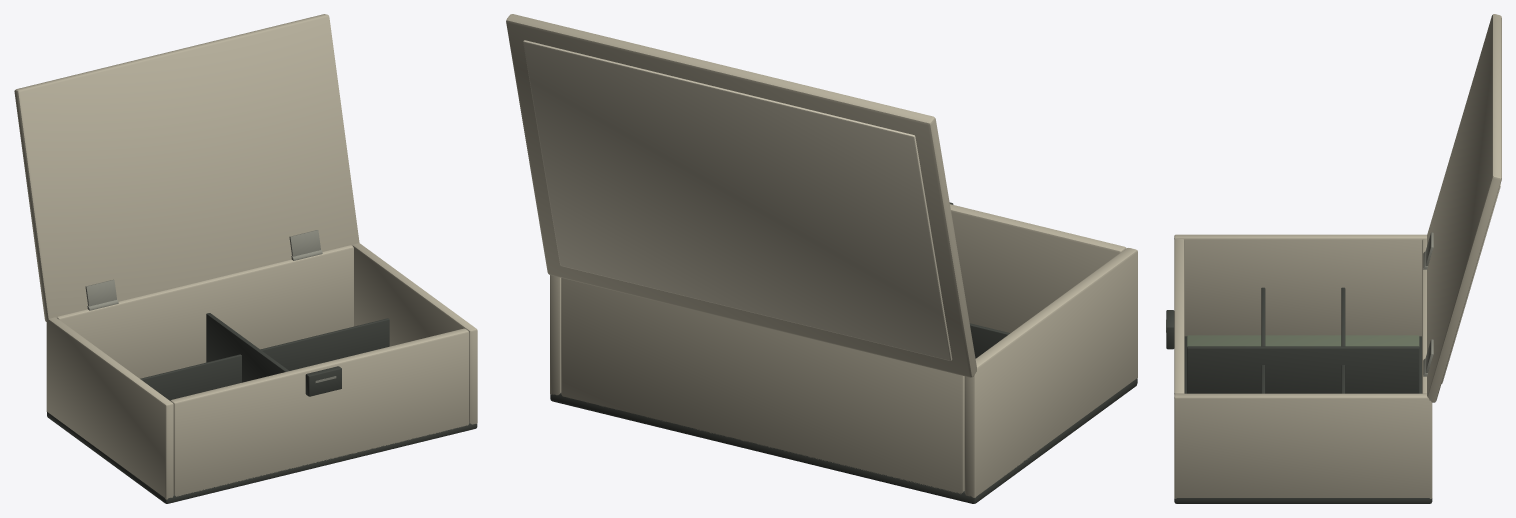
File: A01_Storage_ROOT.fbx
3 renders of one model, left to right at view 1: azimuth 30°, elevation 25°; view 2: azimuth 150°, elevation 25°; view 3: azimuth 270°, elevation 25°, orthographic. The views are drawn at different scales.
Visible parts, largest first — view 1: A01_Lid, A01_End.001, A01_End, A01_Side.001, A01_Side, A01_RowDivider, A01_Bottom, A01_RowDivider.002, A01_CenterDivider, A01_Latch, A01_HingeLeaf, A01_HingeLeaf.001; view 2: A01_LidInset, A01_End, A01_Lid, A01_Side.001, A01_End.001, A01_Bottom, A01_Side, A01_RowDivider.001; view 3: A01_Side, A01_Side.001, A01_Lid, A01_CenterDivider, A01_Liner, A01_Bottom, A01_End.001, A01_End.
Part boxes in pixels (x1=…): A01_Lid: x1=14, y1=14, x2=359, y2=321; A01_End.001: x1=170, y1=328, x2=469, y2=496; A01_End: x1=57, y1=245, x2=353, y2=378; A01_Side.001: x1=46, y1=317, x2=173, y2=499; A01_Side: x1=352, y1=243, x2=477, y2=424; A01_RowDivider: x1=260, y1=318, x2=389, y2=370; A01_Bottom: x1=47, y1=412, x2=477, y2=503; A01_RowDivider.002: x1=140, y1=354, x2=241, y2=400; A01_CenterDivider: x1=206, y1=313, x2=288, y2=382; A01_Latch: x1=305, y1=366, x2=341, y2=396; A01_HingeLeaf: x1=289, y1=230, x2=320, y2=256; A01_HingeLeaf.001: x1=85, y1=279, x2=116, y2=306; A01_LidInset: x1=523, y1=40, x2=952, y2=360; A01_End: x1=561, y1=278, x2=964, y2=494; A01_Lid: x1=506, y1=14, x2=976, y2=377; A01_Side.001: x1=964, y1=248, x2=1137, y2=497; A01_End.001: x1=950, y1=204, x2=1126, y2=332; A01_Bottom: x1=550, y1=378, x2=1137, y2=503; A01_Side: x1=550, y1=275, x2=561, y2=395; A01_RowDivider.001: x1=969, y1=323, x2=1010, y2=358; A01_Side: x1=1174, y1=393, x2=1432, y2=498; A01_Side.001: x1=1174, y1=234, x2=1426, y2=336; A01_Lid: x1=1427, y1=14, x2=1501, y2=402; A01_CenterDivider: x1=1187, y1=346, x2=1419, y2=393; A01_Liner: x1=1187, y1=335, x2=1419, y2=346; A01_Bottom: x1=1174, y1=336, x2=1432, y2=503; A01_End.001: x1=1174, y1=239, x2=1184, y2=394; A01_End: x1=1422, y1=239, x2=1426, y2=393.
Bounding box in the file's own units: 30 × 28.08 × 26.02.
